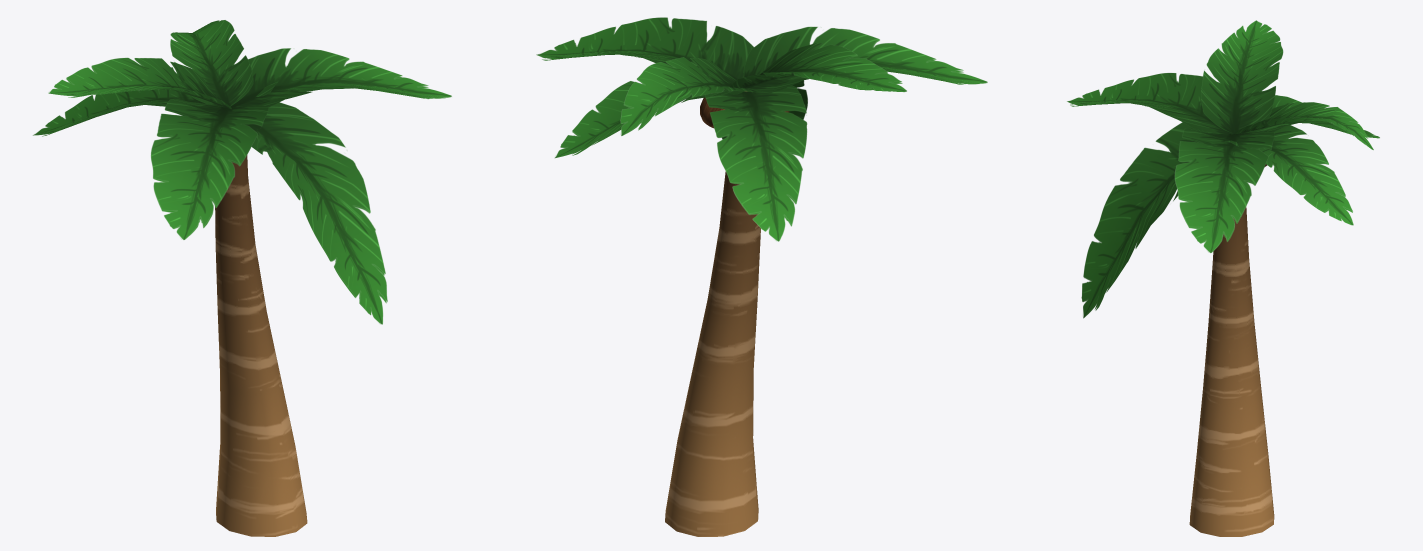
File: tree2.glb
3 views of the same model, side by side, from view 1: azimuth 30°, elevation 25°; view 2: azimuth 150°, elevation 25°; view 3: azimuth 270°, elevation 25° (orthographic). The views are drawn at different scales.
Visible parts, largest first — view 1: coconut3; view 2: coconut3; view 3: coconut3.
Part boxes in pixels (x1=…): coconut3: x1=33, y1=20, x2=451, y2=536; coconut3: x1=536, y1=17, x2=987, y2=536; coconut3: x1=1067, y1=20, x2=1379, y2=536.
Size of the model in its own units: 8.43 by 9.66 by 7.78.
Materials: 3 (3 with a texture image).
